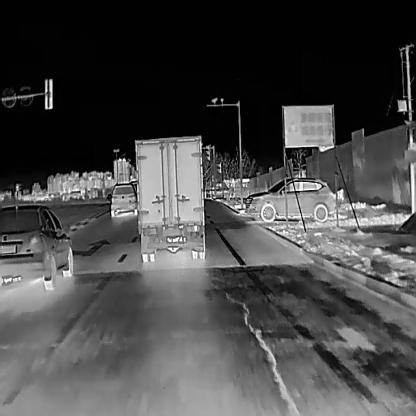car: (0, 203, 72, 289), (244, 176, 335, 223), (108, 181, 138, 216)
truck: (132, 134, 206, 262)
